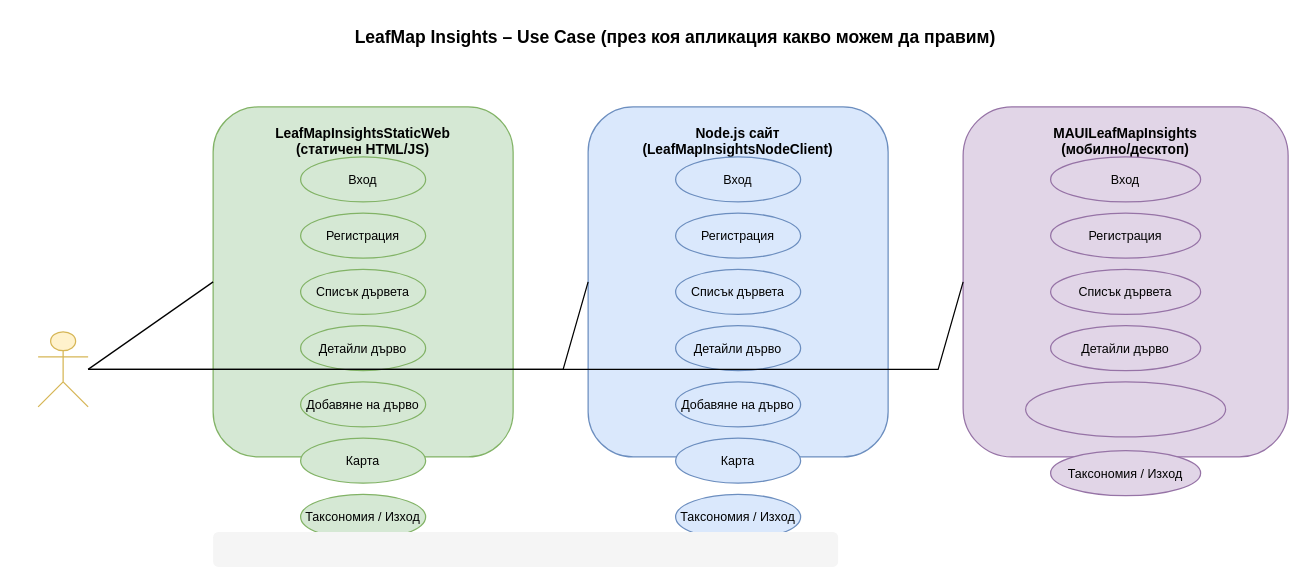
The diagram is 1310 pixels wide and 588 high, and some of its shapes have lost their labels. The shapes that lost their labels are listed below. From the top down, each one's centre as x and y in pixels, then its label:
At point (62, 369): "Потребител".
At point (1125, 409): "Добавяне на дърво + снимка (камера/галерия)".
At point (525, 548): "Уеб сайтът е Node.js (LeafMapInsightsNodeClient). ASP.NET MVC е премахнат.".
